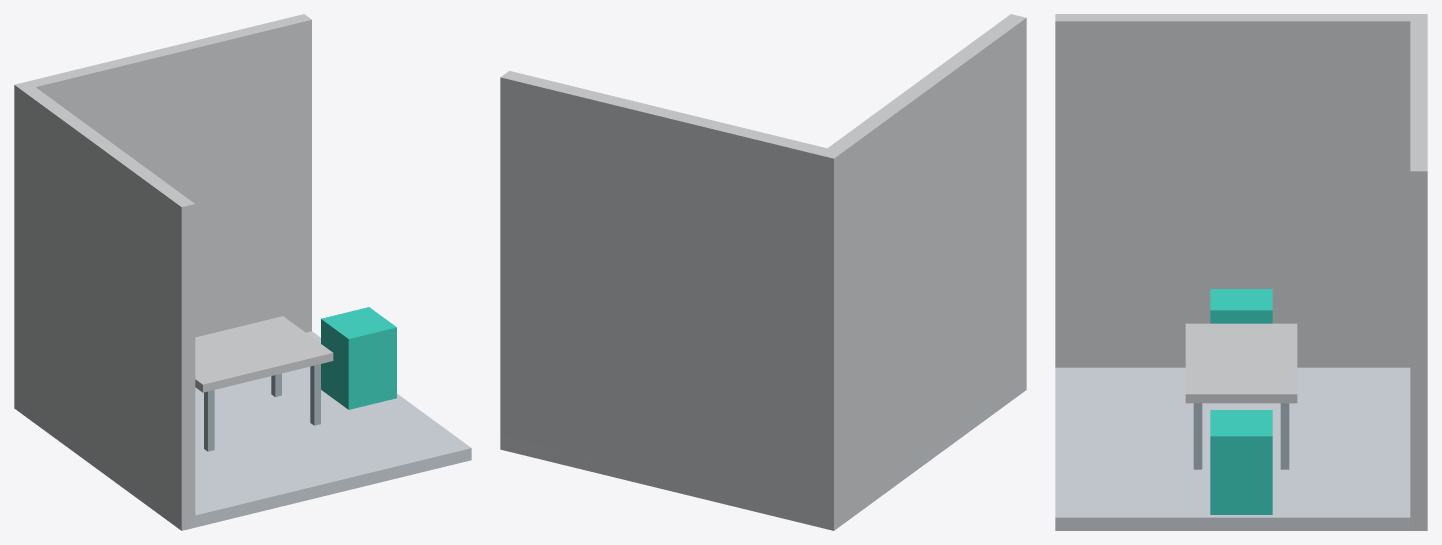
3 views of the same model, side by side, from view 1: azimuth 30°, elevation 25°; view 2: azimuth 150°, elevation 25°; view 3: azimuth 270°, elevation 25° (orthographic). The views are drawn at different scales.
Parts seen in each view (by area): view 1: Exhibition Booth Concept; view 2: Exhibition Booth Concept; view 3: Exhibition Booth Concept.
Boxes of the visible parts, <box> form: Exhibition Booth Concept: <box>14,14,471,530</box>; Exhibition Booth Concept: <box>500,14,1026,530</box>; Exhibition Booth Concept: <box>1055,14,1427,530</box>.
Size of the model in its own units: 3 by 3.2 by 3.
